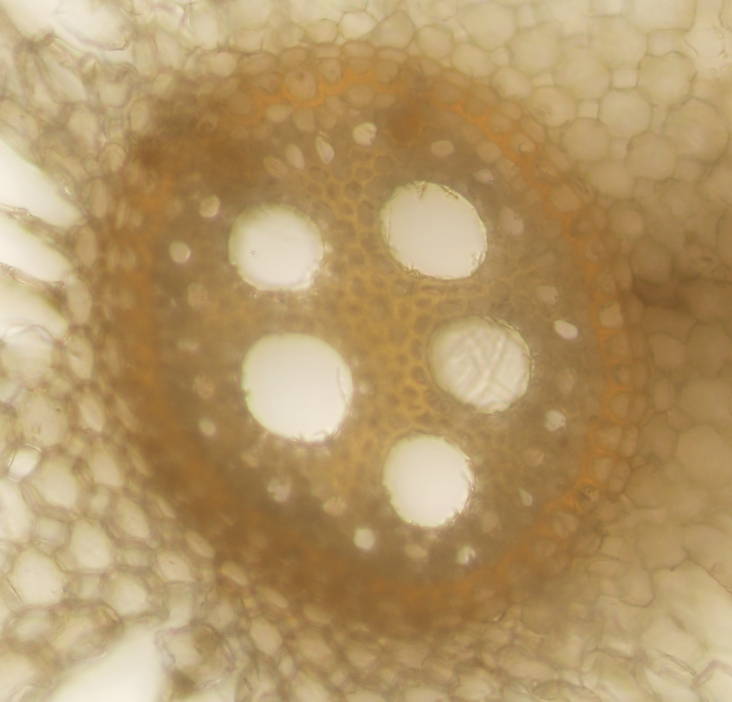lm: (241, 331, 353, 440), (380, 180, 488, 280), (427, 312, 532, 414), (227, 199, 325, 294), (381, 429, 476, 526)
